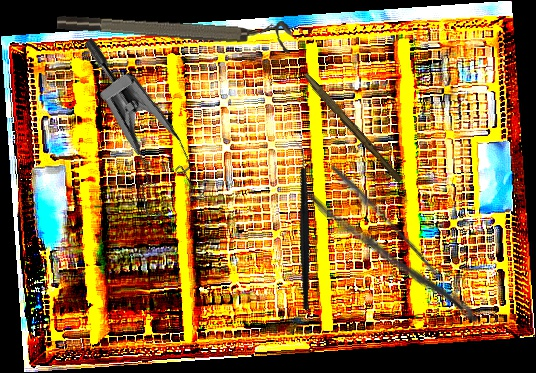Chopper: (241, 138, 361, 311)
Dressing Forceps: (302, 160, 485, 351)
Fixation Ring: (56, 1, 293, 54)
Scalpel Handle: (300, 72, 405, 184)
Speculum: (27, 35, 232, 234)
